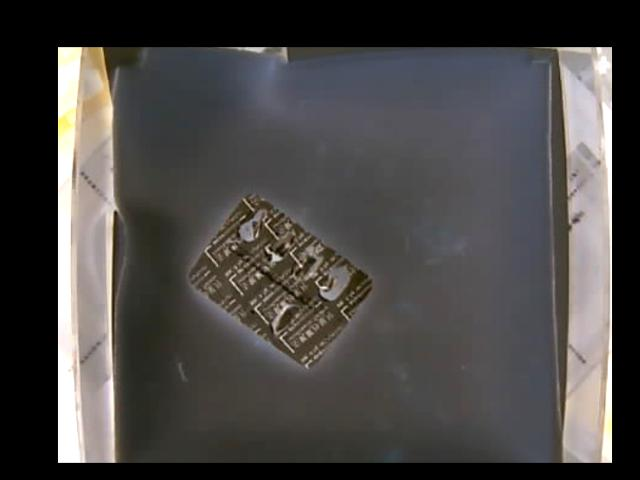Medicine: (190, 194, 373, 367)
